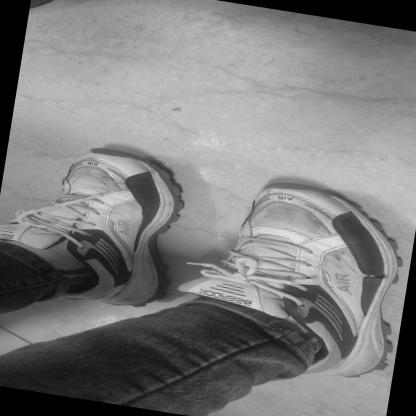ankle: (315, 335, 330, 344), (70, 272, 82, 281)
heel: (347, 366, 360, 376), (129, 297, 140, 304)
left_foot: (1, 135, 191, 314)
pinky: (350, 226, 363, 235), (79, 163, 86, 170)
right_foot: (189, 171, 416, 385)
toe: (256, 197, 272, 205), (131, 171, 144, 179)
